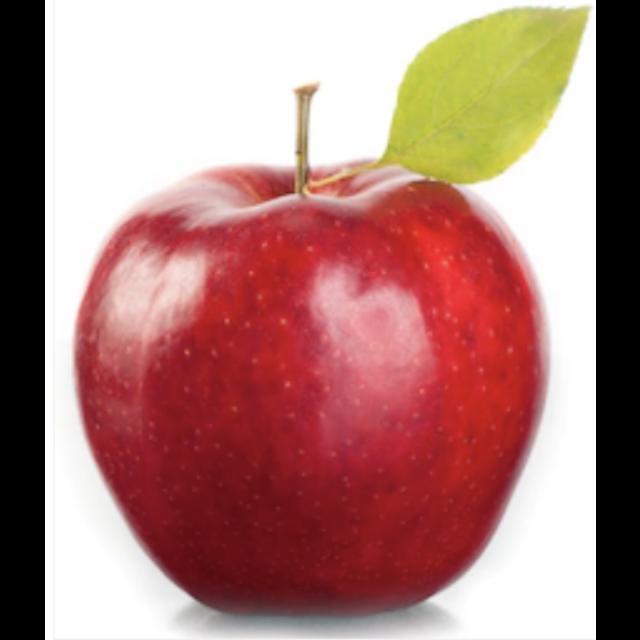Apel Segar: (72, 153, 550, 619)
